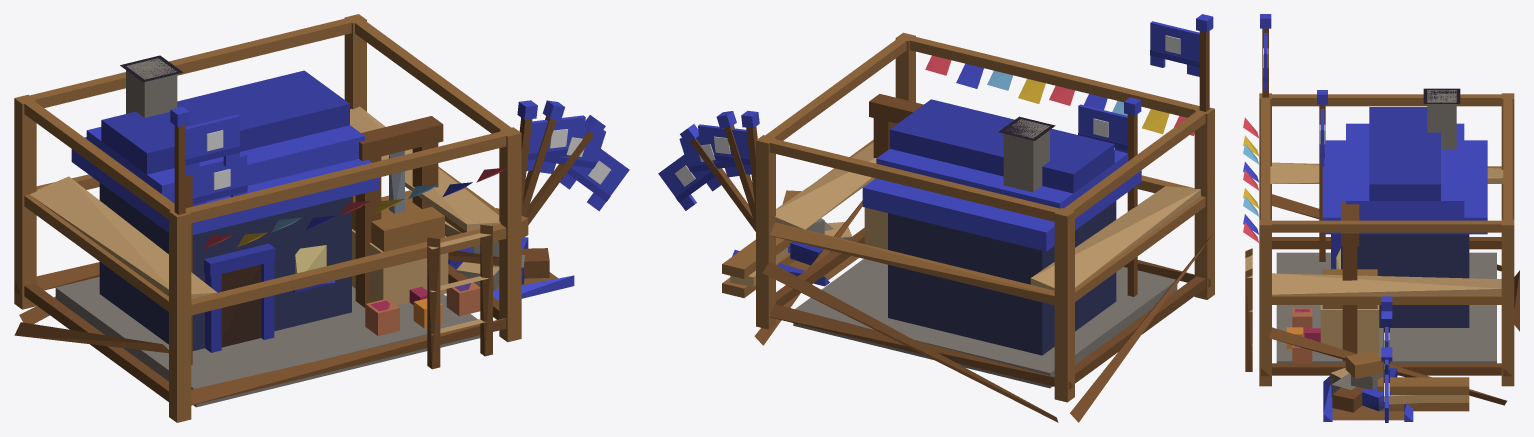
The model's file is bat-research.glb.
3 renders of one model, left to right at view 1: azimuth 30°, elevation 25°; view 2: azimuth 150°, elevation 25°; view 3: azimuth 270°, elevation 25°, orthographic. The views are drawn at different scales.
Visible parts, largest first — view 1: scaffold-mesh, built-mesh, dismantle-75-mesh, dismantle-50-mesh, scaffold-banner, dismantle-25-mesh, dismantle-25-banner, banner, dismantle-75-banner, dismantle-50-banner, scaffold-flag-pole, dismantle-25-flag-pole (+2 smaller); view 2: scaffold-mesh, built-mesh, dismantle-75-mesh, dismantle-50-mesh, scaffold-banner, dismantle-25-banner, banner, dismantle-25-mesh, dismantle-75-banner, flag-pole, dismantle-25-flag-pole, scaffold-flag-pole (+3 smaller); view 3: scaffold-mesh, built-mesh, dismantle-75-mesh, dismantle-25-mesh, dismantle-50-mesh, flag-pole, scaffold-flag-pole, banner, scaffold-banner.
Part boxes in pixels (x1,y1,x2,y2): scaffold-mesh: (14, 14, 521, 422); built-mesh: (56, 55, 480, 407); dismantle-75-mesh: (84, 137, 558, 350); dismantle-50-mesh: (192, 197, 574, 347); scaffold-banner: (185, 114, 240, 175); dismantle-25-mesh: (192, 208, 549, 348); dismantle-25-banner: (560, 142, 629, 211); banner: (192, 153, 247, 206); dismantle-75-banner: (526, 115, 585, 170); dismantle-50-banner: (540, 124, 605, 179); scaffold-flag-pole: (170, 106, 189, 214); dismantle-25-flag-pole: (526, 115, 605, 224); scaffold-mesh: (722, 32, 1214, 422); built-mesh: (793, 94, 1175, 388); dismantle-75-mesh: (732, 118, 1054, 355); dismantle-50-mesh: (733, 227, 1041, 353); scaffold-banner: (1150, 21, 1199, 76); dismantle-25-banner: (658, 147, 720, 210); banner: (1078, 104, 1127, 152); dismantle-25-mesh: (782, 190, 1041, 354); dismantle-75-banner: (698, 124, 751, 174); flag-pole: (1124, 97, 1141, 296); dismantle-25-flag-pole: (680, 124, 755, 231); scaffold-flag-pole: (1196, 14, 1213, 111); scaffold-mesh: (1243, 93, 1519, 411); built-mesh: (1276, 88, 1496, 363); dismantle-75-mesh: (1322, 140, 1487, 421); dismantle-25-mesh: (1286, 327, 1412, 421); dismantle-50-mesh: (1292, 234, 1411, 421); flag-pole: (1317, 90, 1327, 261); scaffold-flag-pole: (1260, 14, 1271, 97); banner: (1319, 109, 1325, 166); scaffold-banner: (1263, 33, 1268, 90).
Bounding box in the file's own units: 2.66 × 1.57 × 1.51.
